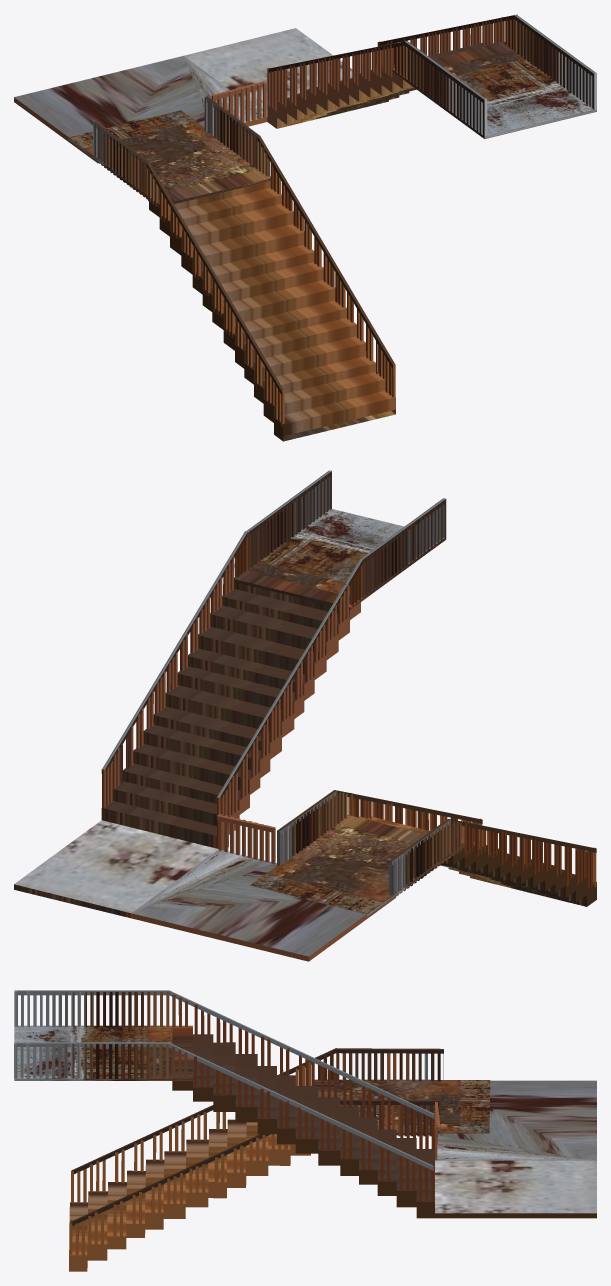
File: stairs.fbx
The picture shows the model from 3 angles, top to bottom: view 1: azimuth 30°, elevation 25°; view 2: azimuth 150°, elevation 25°; view 3: azimuth 270°, elevation 25°; orthographic projection. The views are drawn at different scales.
Parts seen in each view (by area): view 1: Cube, Cube.001; view 2: Cube, Cube.001; view 3: Cube, Cube.001.
Boxes of the visible parts, x1,y1,x2,y2 form: Cube: [14, 14, 596, 427]; Cube.001: [68, 110, 395, 441]; Cube: [14, 470, 596, 961]; Cube.001: [250, 815, 596, 916]; Cube: [14, 990, 596, 1255]; Cube.001: [69, 1079, 490, 1271].
Bounding box in the file's own units: 10.11 × 10.81 × 18.43.
